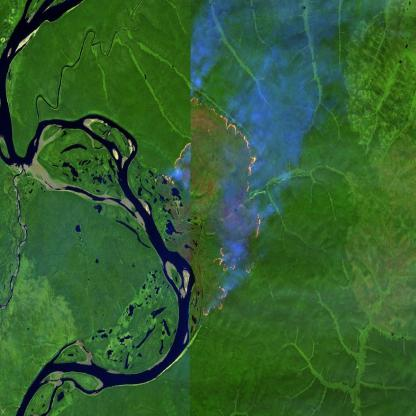fire: (172, 95, 262, 318)
